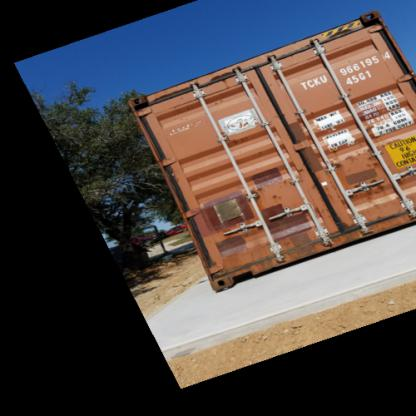Damage: (335, 146, 384, 168), (358, 175, 396, 202), (277, 237, 316, 261), (206, 254, 233, 288), (257, 182, 285, 202), (209, 70, 242, 85)
